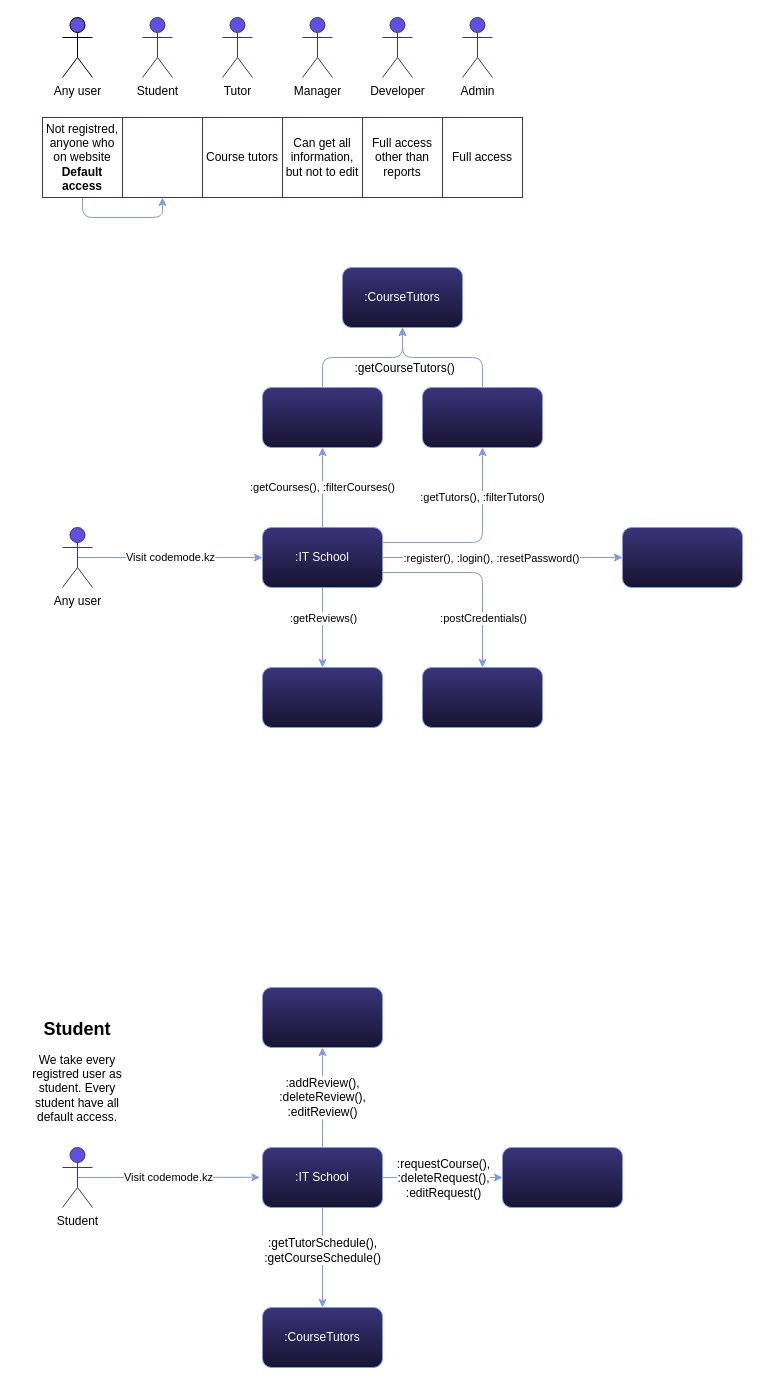
Some shapes in this 760 by 1385 pixel diagram are drawn without their labels. The shapes that lost their labels are listed below. From the top down, each one's centre as x and y in pixels, then its label:
At pixel 162 157: "Only registred students".
At pixel 322 417: ":Courses".
At pixel 482 417: ":Tutors".
At pixel 682 557: ":Users".
At pixel 322 697: ":Reviews".
At pixel 482 697: ":Leave contacts".
At pixel 322 1017: ":CourseReviews".
At pixel 562 1177: ":CourseStudents".
